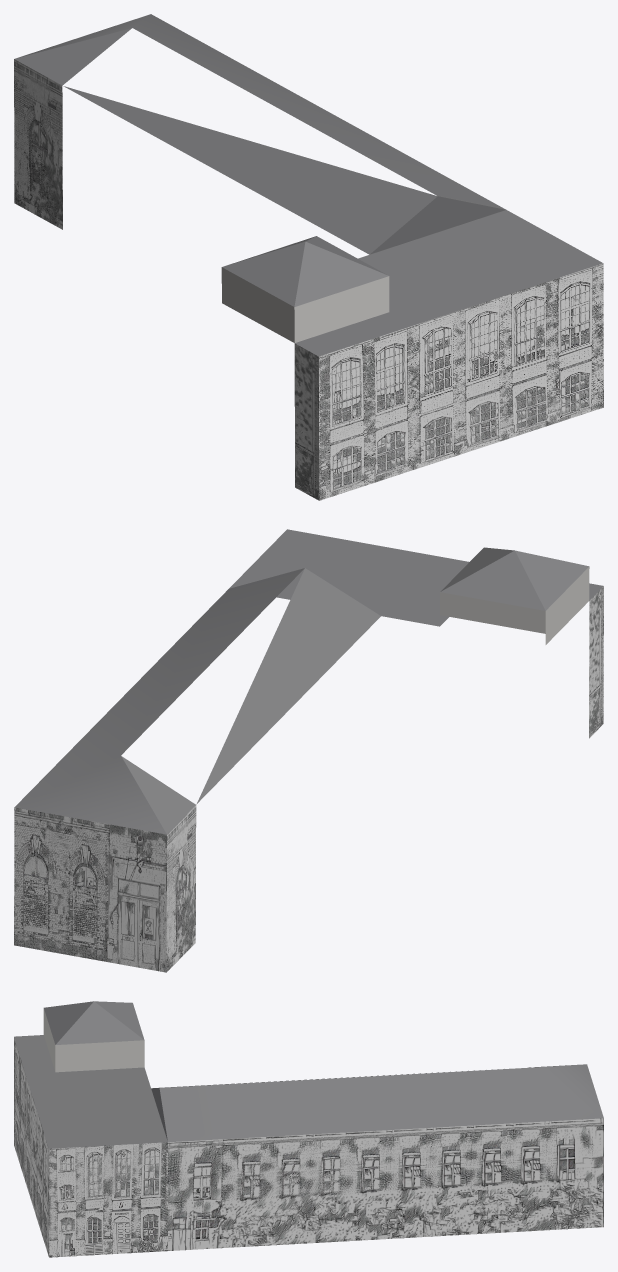
File: Sachsenber-Bau.gltf
3 renders of one model, top to bottom at view 1: azimuth 30°, elevation 25°; view 2: azimuth 150°, elevation 25°; view 3: azimuth 270°, elevation 25°, orthographic. The views are drawn at different scales.
Visible parts, largest first — view 1: Dach.1; view 2: Dach.1; view 3: Dach.1.
Part boxes in pixels (left/top/right/bottom): Dach.1: left=14, top=14, right=603, bottom=500; Dach.1: left=14, top=529, right=603, bottom=972; Dach.1: left=14, top=1001, right=603, bottom=1257.
Bounding box in the file's own units: 28.38 × 17.51 × 59.03.
Materials: 8 (6 with a texture image).
